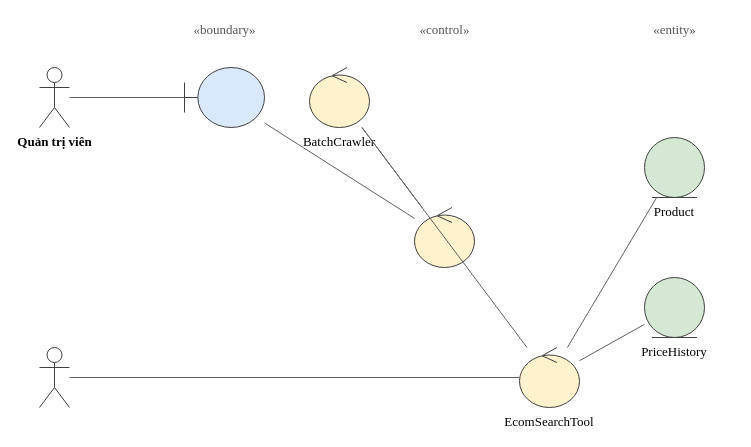
Some shapes in this 751 by 447 pixel diagram are drawn without their labels. The shapes that lost their labels are listed below. From the top down, each one's centre as x and y in pixels, then its label:
point (224, 97): DataWarehousePanel
point (444, 237): CrawlerController
point (54, 377): Sàn TMĐT
